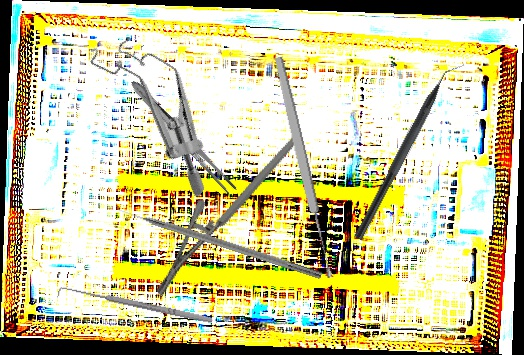Chopper: (353, 54, 467, 247)
Dressing Forceps: (126, 77, 240, 197)
Hook Surgical: (114, 202, 324, 280), (57, 282, 213, 331)
Needle Holder: (122, 131, 337, 299)
Speculum: (54, 21, 253, 200)
Surgical Spoon: (272, 55, 336, 280)
